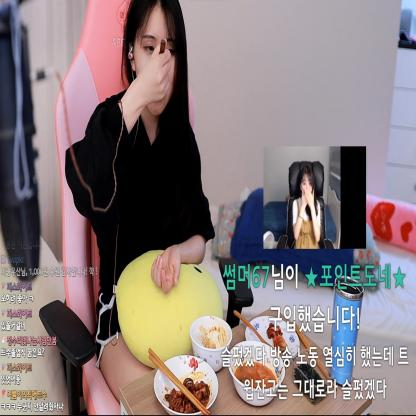donation: (220, 145, 412, 401)
streamer: (66, 0, 216, 402)
